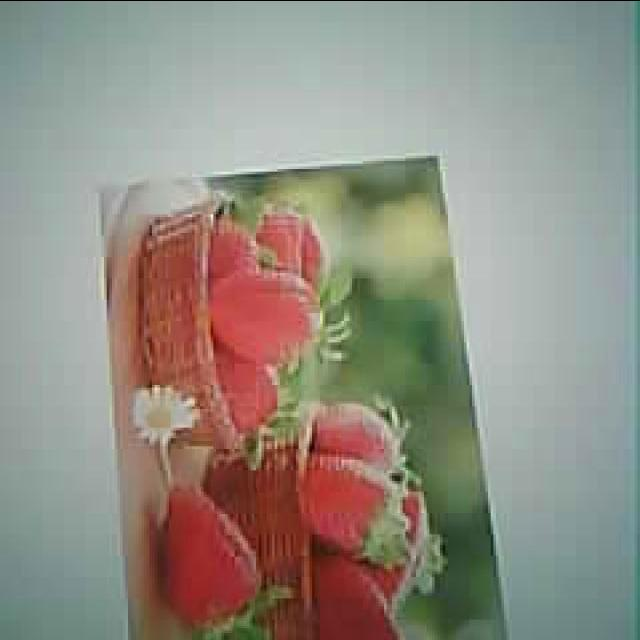strawberry: (162, 486, 264, 626)
